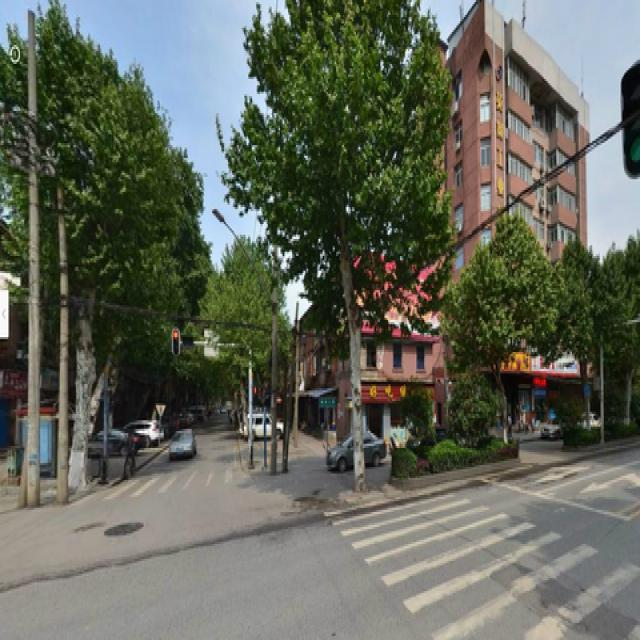meta: (239, 11, 440, 467)
